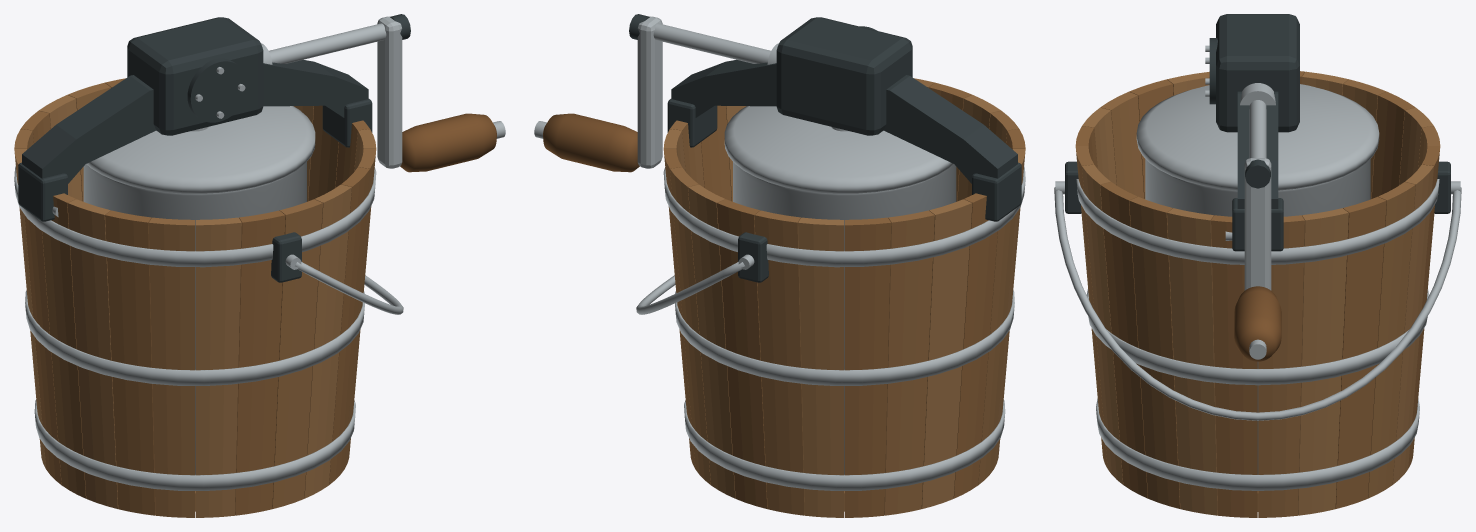
3 views of the same model, side by side, from view 1: azimuth 30°, elevation 25°; view 2: azimuth 150°, elevation 25°; view 3: azimuth 270°, elevation 25° (orthographic).
Visible parts, largest first — view 1: Removable canister lid exterior, One-piece arched gear bridge, Closed wooden bucket stave 16, Closed wooden bucket stave 15, Closed wooden bucket stave 14, Closed wooden bucket stave 17, Closed generic gear housing, Closed wooden bucket stave 13, Closed wooden bucket stave 18, Closed inner freezer canister, Closed wooden bucket stave 19, Closed wooden bucket stave 12 (+20 smaller); view 2: Removable canister lid exterior, Closed generic gear housing, One-piece arched gear bridge, Closed wooden bucket stave 7, Closed wooden bucket stave 8, Closed wooden bucket stave 9, Closed wooden bucket stave 6, Closed wooden bucket stave 10, Closed wooden bucket stave 5, Closed inner freezer canister, Closed wooden bucket stave 4, Closed wooden bucket stave 11 (+19 smaller); view 3: Removable canister lid exterior, Closed wooden bucket stave 1, Closed wooden bucket stave 22, Closed wooden bucket stave 2, Closed wooden bucket stave 21, Closed wooden bucket stave 0, Closed wooden bucket stave 23, Closed generic gear housing, Closed wooden bucket stave 20, Closed wooden bucket stave 3, Lowered outward carry bail, Closed inner freezer canister (+27 smaller).
Boxes of the visible parts, <box> form: Removable canister lid exterior: <box>86,106,315,193</box>; One-piece arched gear bridge: <box>22,59,368,183</box>; Closed wooden bucket stave 16: <box>195,217,241,517</box>; Closed wooden bucket stave 15: <box>148,217,194,517</box>; Closed wooden bucket stave 14: <box>105,210,155,515</box>; Closed wooden bucket stave 17: <box>235,210,285,515</box>; Closed generic gear housing: <box>127,17,263,135</box>; Closed wooden bucket stave 13: <box>67,199,118,508</box>; Closed wooden bucket stave 18: <box>272,199,322,508</box>; Closed inner freezer canister: <box>83,162,306,474</box>; Closed wooden bucket stave 19: <box>304,184,351,498</box>; Closed wooden bucket stave 12: <box>42,193,86,498</box>; Removable canister lid exterior: <box>724,106,953,193</box>; Closed generic gear housing: <box>776,17,912,135</box>; One-piece arched gear bridge: <box>671,59,1017,183</box>; Closed wooden bucket stave 7: <box>798,217,844,517</box>; Closed wooden bucket stave 8: <box>845,217,891,517</box>; Closed wooden bucket stave 9: <box>884,210,934,515</box>; Closed wooden bucket stave 6: <box>754,210,804,515</box>; Closed wooden bucket stave 10: <box>921,199,972,508</box>; Closed wooden bucket stave 5: <box>717,199,767,508</box>; Closed inner freezer canister: <box>733,162,956,474</box>; Closed wooden bucket stave 4: <box>688,184,735,498</box>; Closed wooden bucket stave 11: <box>953,193,997,498</box>; Removable canister lid exterior: <box>1136,84,1379,190</box>; Closed wooden bucket stave 1: <box>1298,208,1348,515</box>; Closed wooden bucket stave 22: <box>1167,208,1217,515</box>; Closed wooden bucket stave 2: <box>1335,196,1386,508</box>; Closed wooden bucket stave 21: <box>1129,196,1180,508</box>; Closed wooden bucket stave 0: <box>1258,215,1304,517</box>; Closed wooden bucket stave 23: <box>1211,215,1257,517</box>; Closed generic gear housing: <box>1216,14,1299,132</box>; Closed wooden bucket stave 20: <box>1100,182,1147,498</box>; Closed wooden bucket stave 3: <box>1368,182,1415,498</box>; Lowered outward carry bail: <box>1054,187,1461,420</box>; Closed inner freezer canister: <box>1145,159,1370,474</box>.
Size of the model in its own units: 51.15 by 42.9 by 38.
